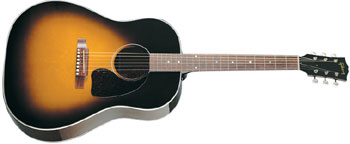guitar: (3, 1, 348, 141)
